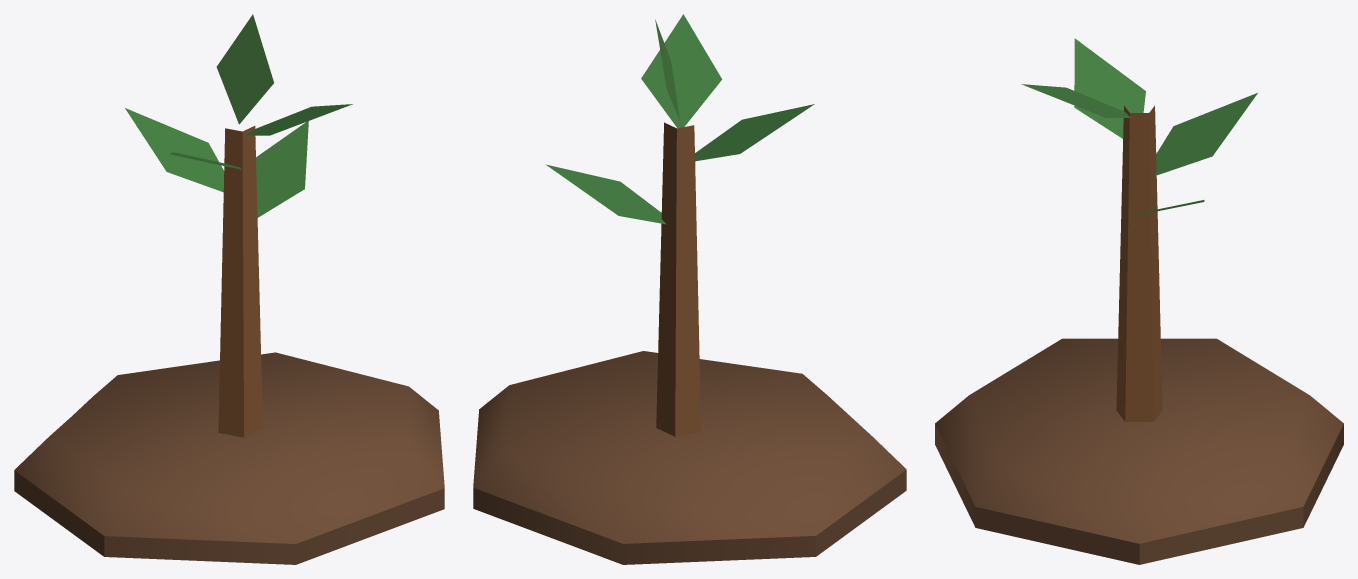
File: orange_tree_sprout.glb
3 views of the same model, side by side, from view 1: azimuth 30°, elevation 25°; view 2: azimuth 150°, elevation 25°; view 3: azimuth 270°, elevation 25° (orthographic).
Parts seen in each view (by area): view 1: orange_tree_sprout; view 2: orange_tree_sprout; view 3: orange_tree_sprout.
Part boxes in pixels (left/top/right/bottom): orange_tree_sprout: left=14, top=14, right=444, bottom=564; orange_tree_sprout: left=473, top=14, right=906, bottom=564; orange_tree_sprout: left=935, top=38, right=1343, bottom=564.
Bounding box in the file's own units: 0.3802 × 0.4376 × 0.351.
1 material, 1 textured.
